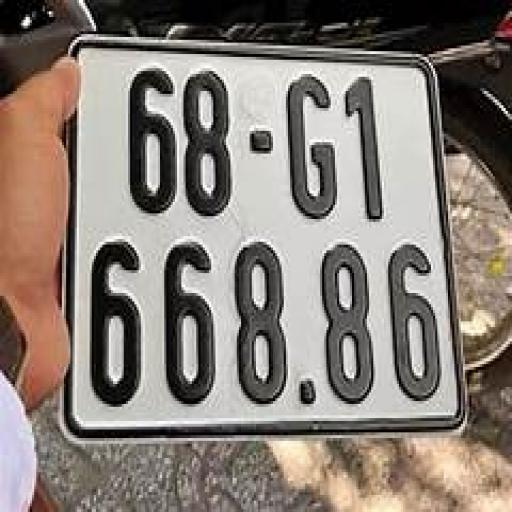place: (73, 48, 459, 428)
